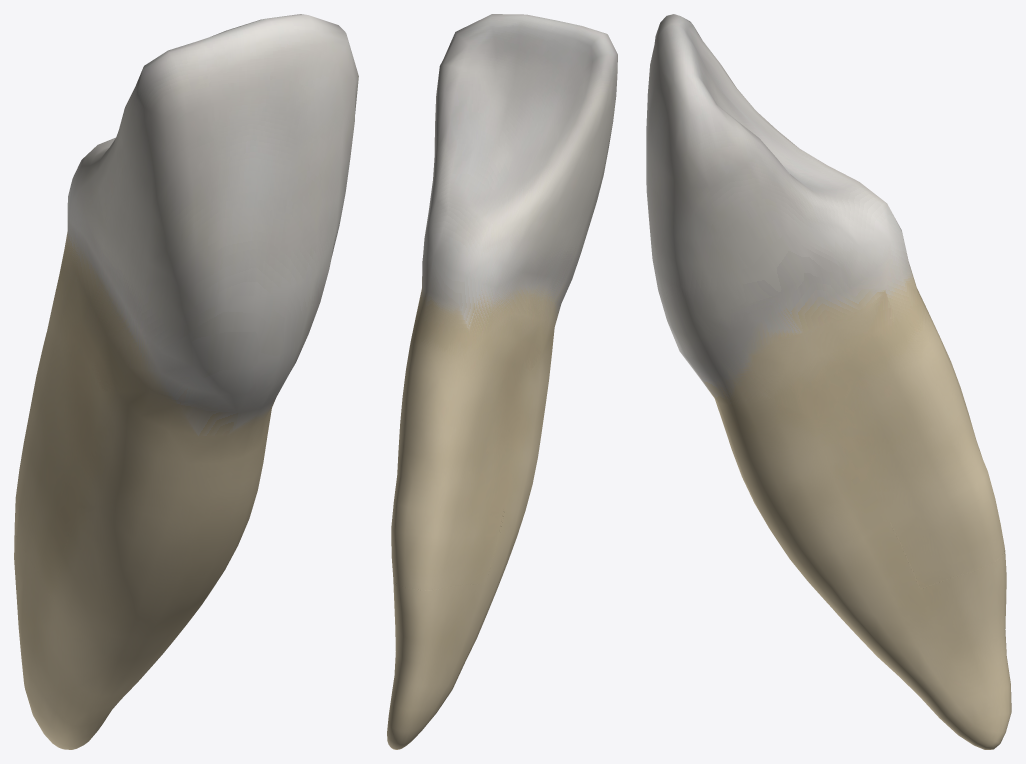
Rendered from tooth-31.glb.
3 renders of one model, left to right at view 1: azimuth 30°, elevation 25°; view 2: azimuth 150°, elevation 25°; view 3: azimuth 270°, elevation 25°, orthographic. The views are drawn at different scales.
Visible parts, largest first — view 1: LL1seam_2:ZBrushPolyMesh3D_Mandible_ll1_0; view 2: LL1seam_2:ZBrushPolyMesh3D_Mandible_ll1_0; view 3: LL1seam_2:ZBrushPolyMesh3D_Mandible_ll1_0.
Part boxes in pixels (x1=…): LL1seam_2:ZBrushPolyMesh3D_Mandible_ll1_0: x1=14, y1=14, x2=358, y2=749; LL1seam_2:ZBrushPolyMesh3D_Mandible_ll1_0: x1=387, y1=14, x2=617, y2=749; LL1seam_2:ZBrushPolyMesh3D_Mandible_ll1_0: x1=646, y1=14, x2=1011, y2=749.
Bounding box in the file's own units: 0.199 × 0.7341 × 0.346.
Materials: 1 (1 with a texture image).
